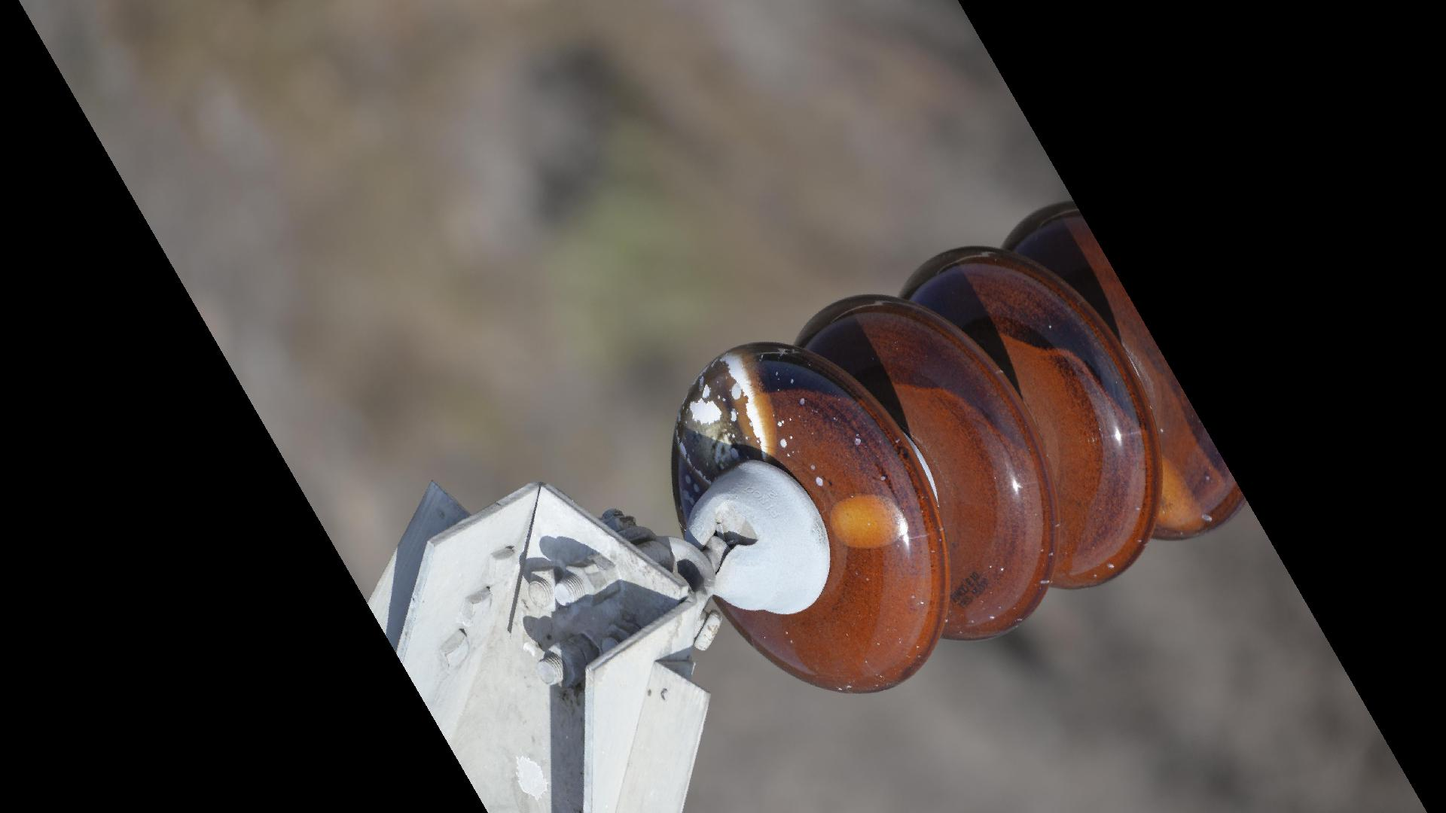insulator: (662, 196, 1250, 703)
insulator_flashover: (670, 343, 774, 486), (825, 486, 915, 555), (1152, 453, 1208, 537)
